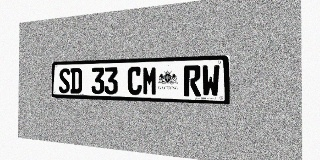3: (104, 67, 118, 94), (91, 67, 104, 94)
C: (127, 66, 142, 95)
D: (70, 68, 82, 94)
M: (142, 66, 157, 95)
R: (184, 65, 201, 96)
S: (59, 68, 70, 93)
W: (202, 65, 220, 97)
